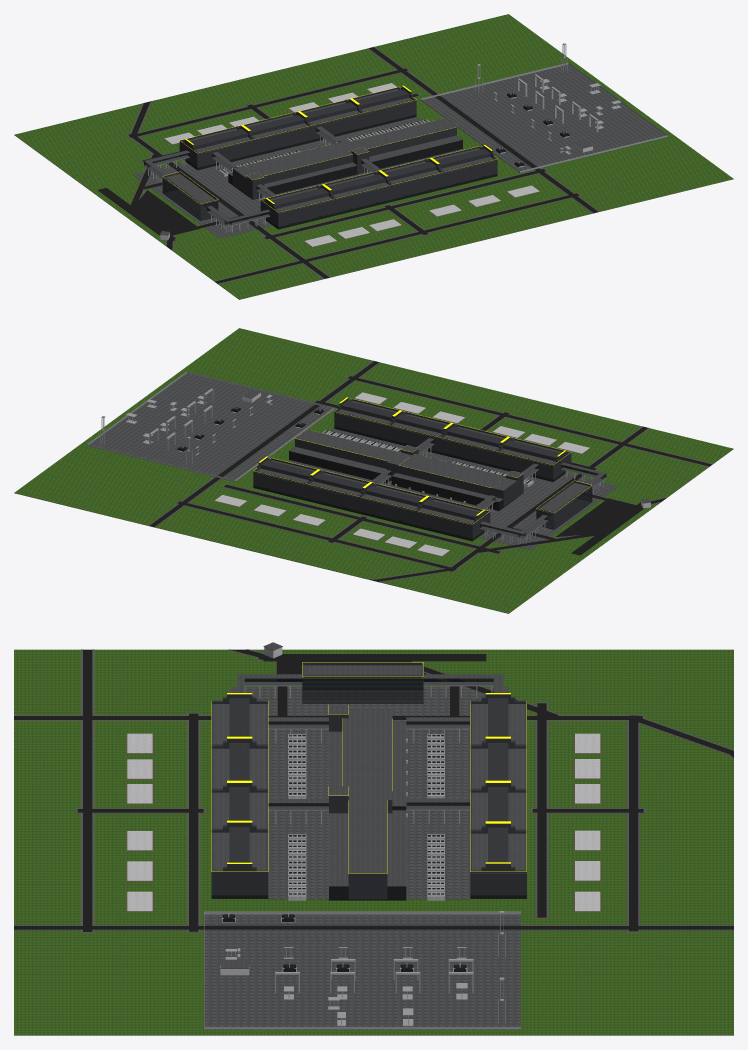
File: dcv_web.glb
3 views of the same model, one above another, from view 1: azimuth 30°, elevation 25°; view 2: azimuth 150°, elevation 25°; view 3: azimuth 270°, elevation 25° (orthographic). The views are drawn at different scales.
Visible parts, largest first — view 1: DCV_Газон, DCV_Бетон площадка, DCV_Сэндвич RAL 9006, DCV_Кровля ПВХ, DCV_Асфальт, DCV_Тротуар плитка, DCV_Оцинковка, DCV_Жалюзи, DCV_Белый, DCV_Стекло, LED_green, DCV_Ограждение (+2 smaller); view 2: DCV_Газон, DCV_Бетон площадка, DCV_Сэндвич RAL 9006, DCV_Кровля ПВХ, DCV_Асфальт, DCV_Тротуар плитка, DCV_Оцинковка, DCV_Жалюзи, DCV_Белый, DCV_Стекло, DCV_Грунт основание, LED_green (+2 smaller); view 3: DCV_Газон, DCV_Бетон площадка, DCV_Кровля ПВХ, DCV_Асфальт, DCV_Сэндвич RAL 9006, DCV_Оцинковка, DCV_Тротуар плитка, DCV_Белый, DCV_Стекло, DCV_Грунт основание, DCV_Контейнер белый, DCV_Жалюзи (+2 smaller).
Part boxes in pixels (x1=…): DCV_Газон: x1=14, y1=14, x2=733, y2=299; DCV_Бетон площадка: x1=133, y1=64, x2=665, y2=238; DCV_Сэндвич RAL 9006: x1=162, y1=86, x2=497, y2=226; DCV_Кровля ПВХ: x1=144, y1=89, x2=592, y2=235; DCV_Асфальт: x1=97, y1=47, x2=598, y2=283; DCV_Тротуар плитка: x1=126, y1=46, x2=599, y2=283; DCV_Оцинковка: x1=144, y1=43, x2=621, y2=232; DCV_Жалюзи: x1=183, y1=114, x2=497, y2=228; DCV_Белый: x1=160, y1=83, x2=566, y2=246; DCV_Стекло: x1=144, y1=128, x2=375, y2=226; LED_green: x1=163, y1=85, x2=497, y2=212; DCV_Ограждение: x1=420, y1=62, x2=667, y2=172; DCV_Газон: x1=14, y1=328, x2=733, y2=613; DCV_Бетон площадка: x1=89, y1=373, x2=618, y2=549; DCV_Сэндвич RAL 9006: x1=253, y1=398, x2=592, y2=538; DCV_Кровля ПВХ: x1=242, y1=389, x2=651, y2=534; DCV_Асфальт: x1=149, y1=361, x2=711, y2=581; DCV_Тротуар плитка: x1=148, y1=360, x2=712, y2=581; DCV_Оцинковка: x1=100, y1=388, x2=605, y2=544; DCV_Жалюзи: x1=253, y1=426, x2=570, y2=540; DCV_Белый: x1=180, y1=392, x2=650, y2=556; DCV_Стекло: x1=376, y1=440, x2=606, y2=538; DCV_Грунт основание: x1=14, y1=383, x2=733, y2=613; LED_green: x1=253, y1=397, x2=591, y2=524; DCV_Газон: x1=14, y1=649, x2=733, y2=1035; DCV_Бетон площадка: x1=204, y1=687, x2=520, y2=1029; DCV_Кровля ПВХ: x1=211, y1=642, x2=526, y2=968; DCV_Асфальт: x1=14, y1=649, x2=733, y2=931; DCV_Сэндвич RAL 9006: x1=211, y1=662, x2=526, y2=899; DCV_Оцинковка: x1=222, y1=682, x2=505, y2=1026; DCV_Тротуар плитка: x1=14, y1=649, x2=733, y2=932; DCV_Белый: x1=127, y1=647, x2=600, y2=967; DCV_Стекло: x1=244, y1=678, x2=493, y2=810; DCV_Грунт основание: x1=14, y1=651, x2=733, y2=1035; DCV_Контейнер белый: x1=288, y1=734, x2=444, y2=900; DCV_Жалюзи: x1=211, y1=735, x2=526, y2=899.
Size of the model in its own units: 720 by 39.5 by 568.
40 materials, 39 textured.
